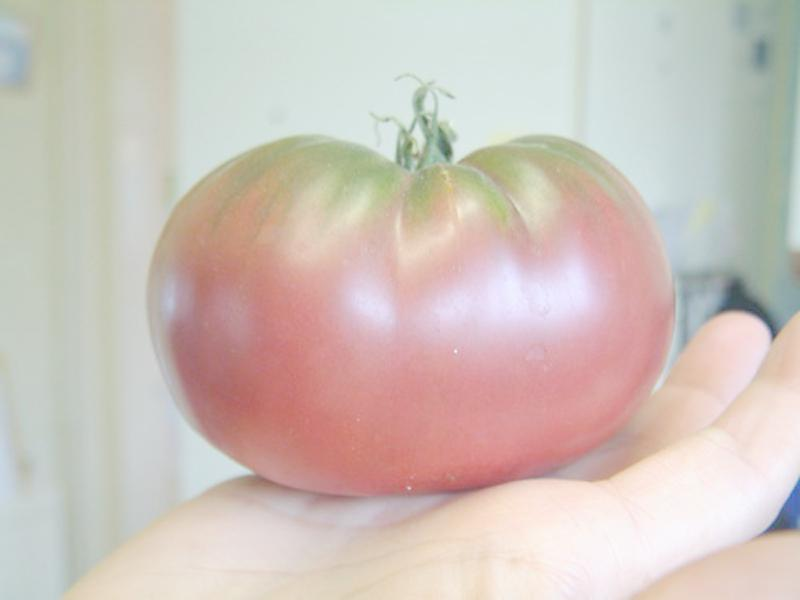Tomato: (146, 133, 674, 496)
